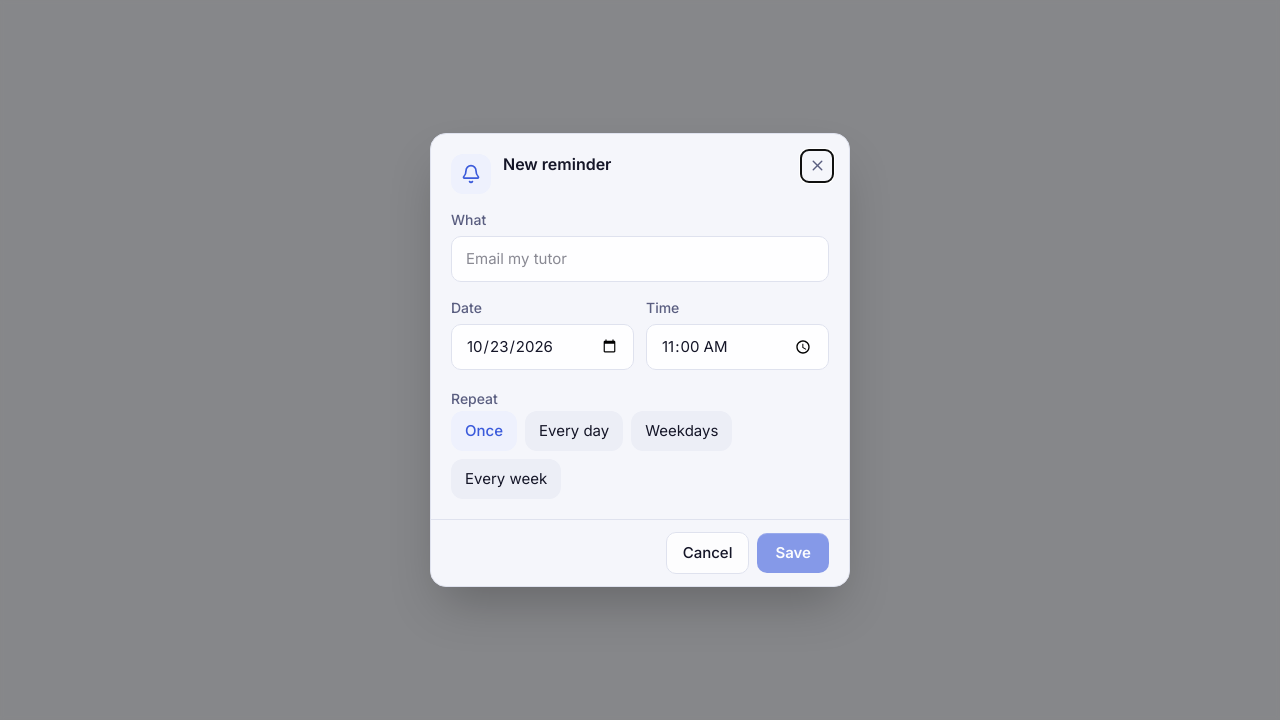
Scenario: making a reminder from anywhere › will not save one without words, or a one-off in the past, also when the time passes while typing
Check: the button "Save" is disabled, box [758,533,829,573]
Type "Late" into the field labelled "What" at (640,259), box [451,236,829,282]
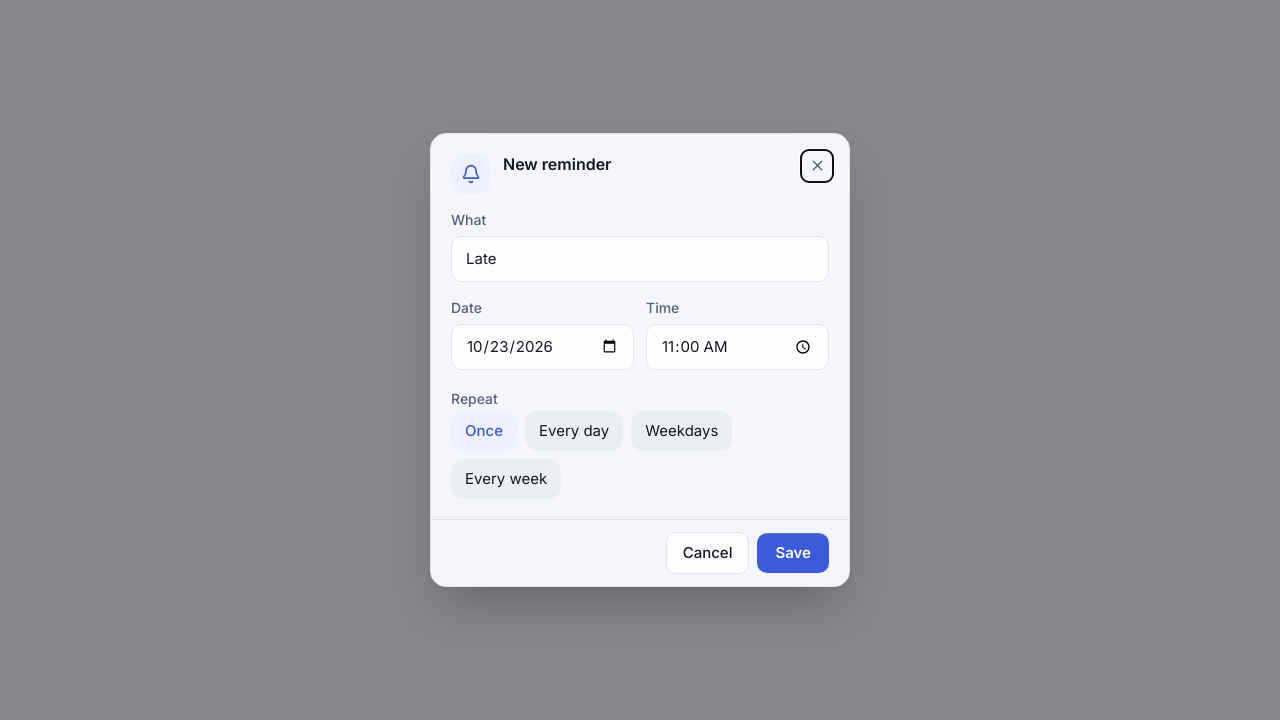
Click the button "Save" at (793,553), box [758,533,829,573]
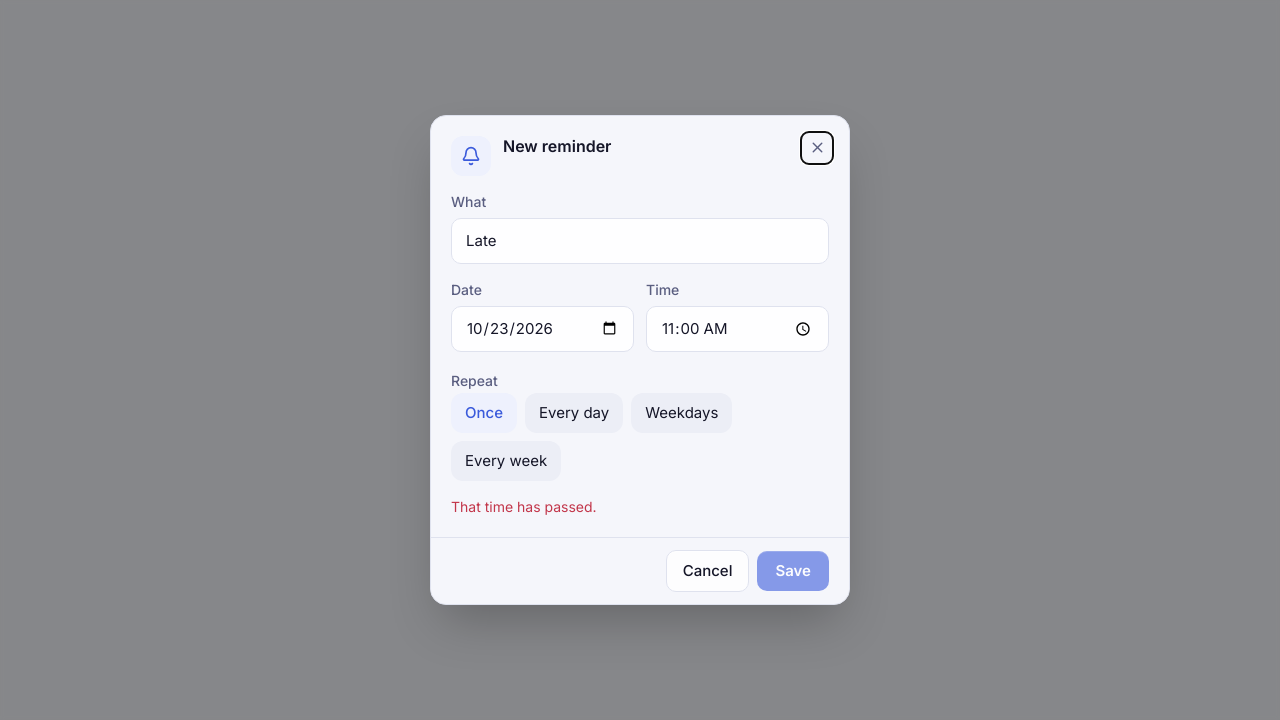
Check: the text "That time has passed." is shown, box [451,498,597,515]
